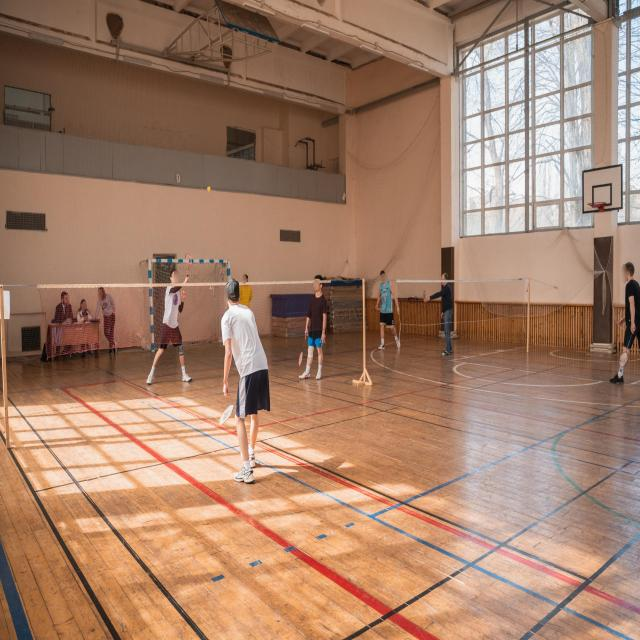Person: (218, 270, 272, 491), (146, 237, 198, 412), (603, 252, 640, 401), (90, 269, 132, 366), (424, 272, 463, 364), (298, 274, 326, 393), (378, 268, 408, 356), (48, 284, 74, 334), (240, 271, 253, 320), (78, 299, 92, 328)
